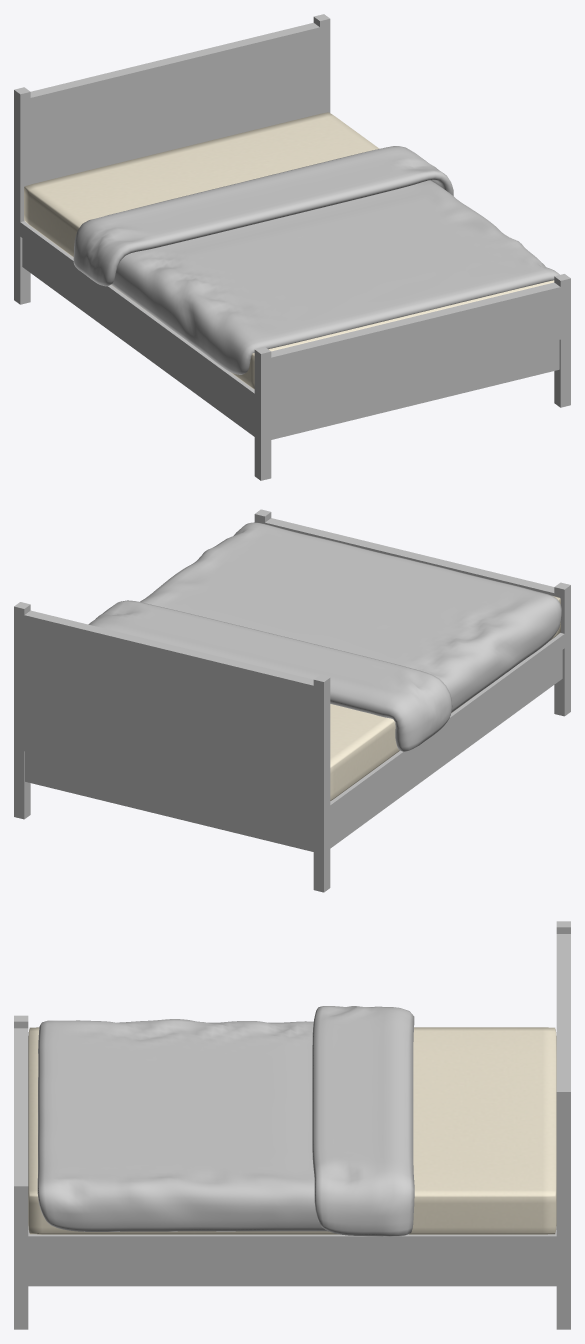
Rendered from Bed04.fbx.
3 views of the same model, one above another, from view 1: azimuth 30°, elevation 25°; view 2: azimuth 150°, elevation 25°; view 3: azimuth 270°, elevation 25° (orthographic). The views are drawn at different scales.
Visible parts, largest first — view 1: BedFrame04, Blanket04, Mattress04; view 2: BedFrame04, Blanket04, Mattress04; view 3: Blanket04, BedFrame04, Mattress04.
Part boxes in pixels (x1,y1,x2,y2): BedFrame04: (14, 14, 570, 480); Blanket04: (73, 146, 559, 374); Mattress04: (24, 112, 554, 389); BedFrame04: (14, 509, 570, 892); Blanket04: (88, 522, 561, 751); Mattress04: (330, 596, 560, 800); Blanket04: (37, 1006, 414, 1236); BedFrame04: (14, 921, 570, 1329); Mattress04: (28, 1027, 556, 1234).
Size of the model in its own units: 181 by 104 by 222.
